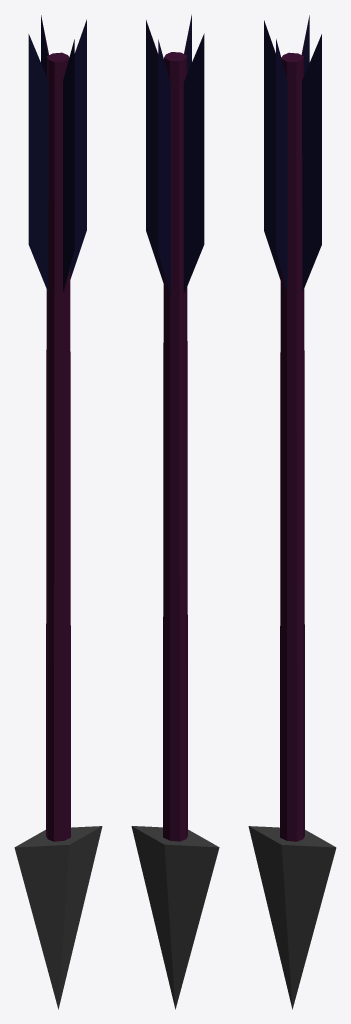
The model's file is arrow.fbx.
3 renders of one model, left to right at view 1: azimuth 30°, elevation 25°; view 2: azimuth 150°, elevation 25°; view 3: azimuth 330°, elevation 25°, orthographic.
Visible parts, largest first — view 1: Arrow; view 2: Arrow; view 3: Arrow.
Part boxes in pixels (left/top/right/bottom): Arrow: left=14, top=15, right=102, bottom=1009; Arrow: left=131, top=14, right=219, bottom=1009; Arrow: left=248, top=15, right=336, bottom=1009.
Size of the model in its own units: 34.49 by 368 by 22.79.
